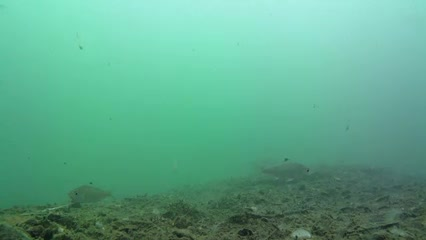smallfish: (259, 150, 322, 188), (69, 177, 121, 205)
